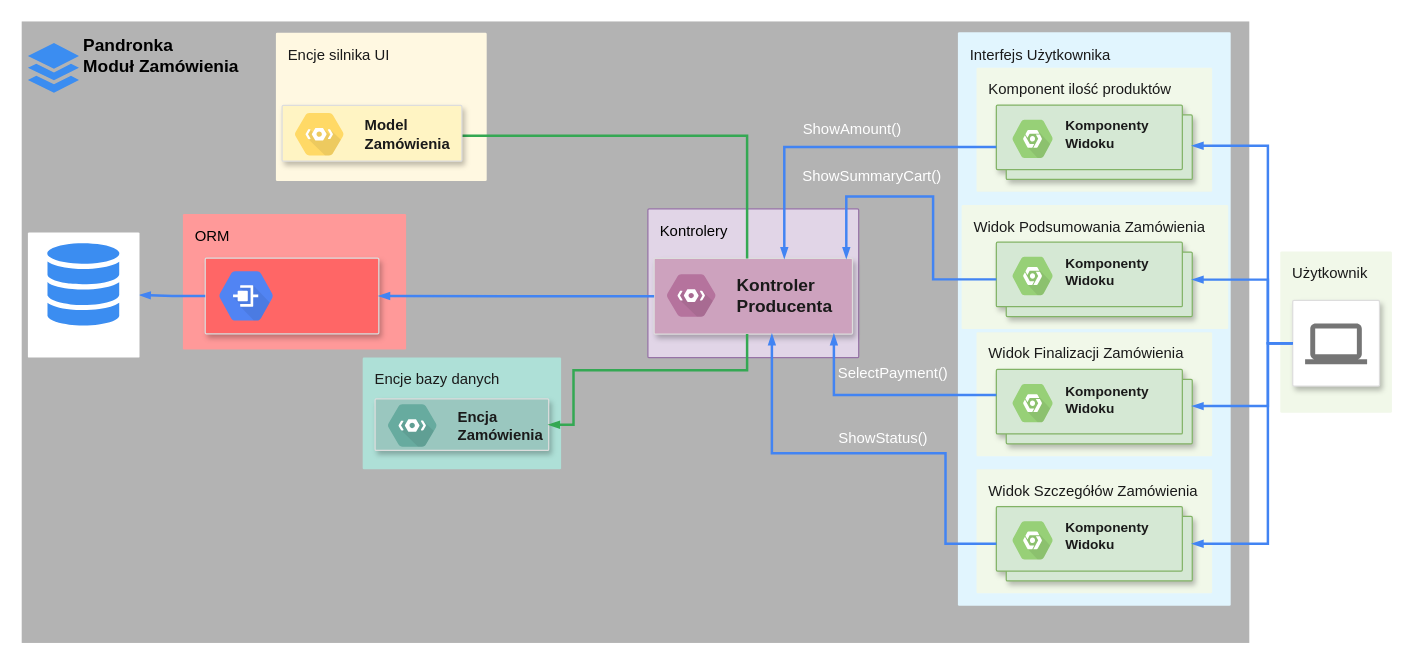
Image size: 1412x665. Some labels were removed from this diagram. The shapes that lost their labels are listed below. From the top down, each one's centre as x and y in pixels, then its label:
(83,284): Baza danych
(245,295): Adapter dostępowy
